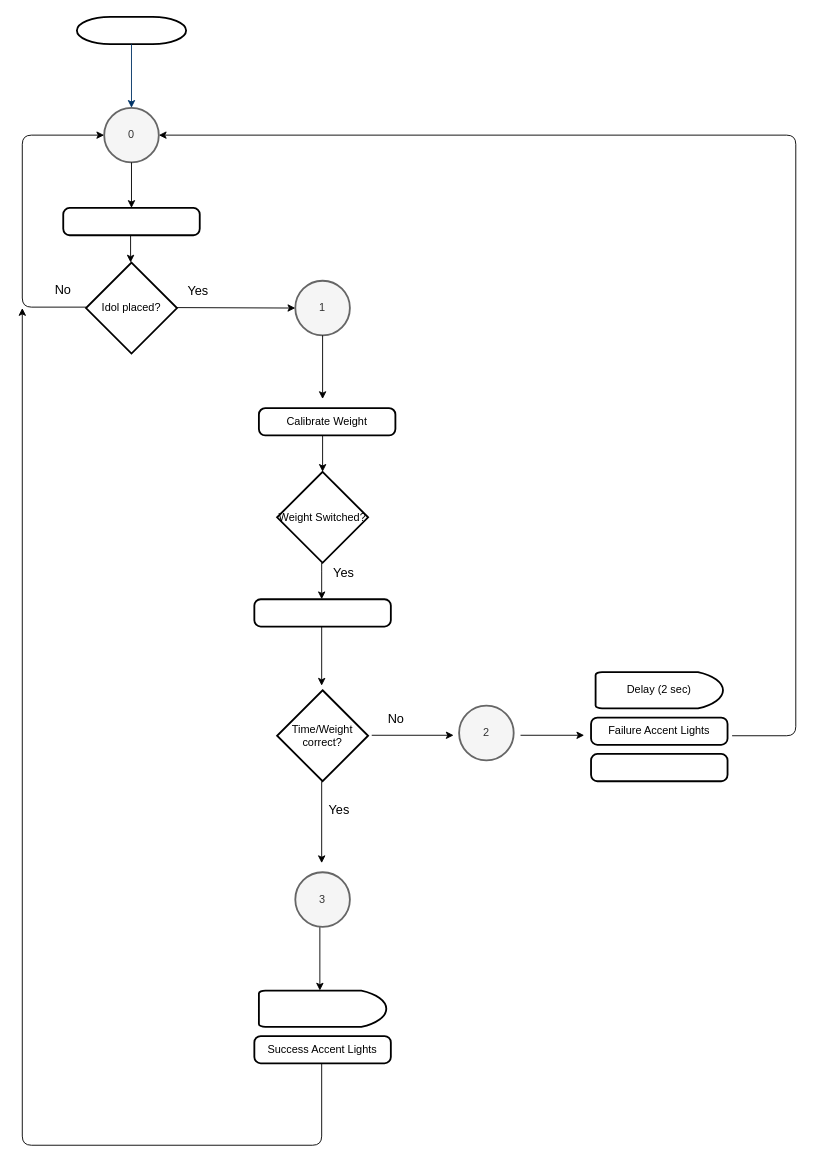
Image size: 819x1168. Some labels were removed from this diagram. Each missing label, with the box of its shape:
Activate Traps: (590, 753, 728, 782)
Blinking Reset Light: (62, 207, 200, 236)
Calibrate Weight of Fake: (253, 598, 391, 627)
Delay (5 sec): (258, 989, 387, 1027)
Power On: (76, 15, 187, 45)
